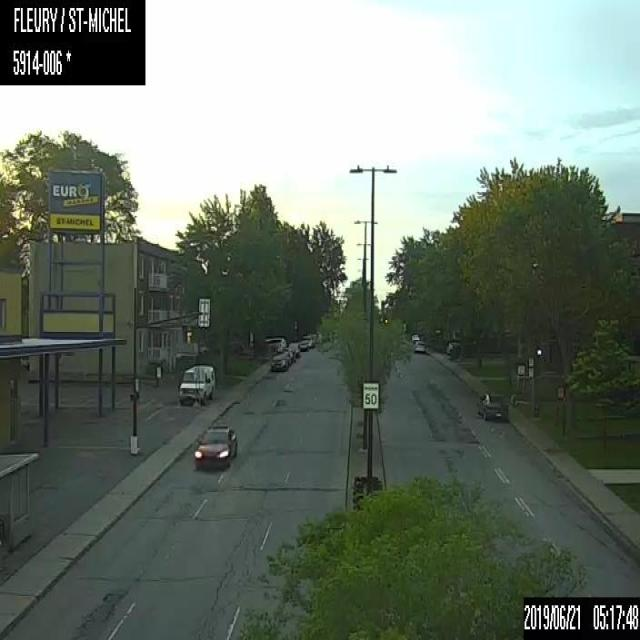vehicle: (192, 422, 237, 467), (177, 362, 215, 406), (476, 391, 509, 421), (268, 352, 287, 371), (279, 348, 294, 365), (412, 339, 424, 353)
